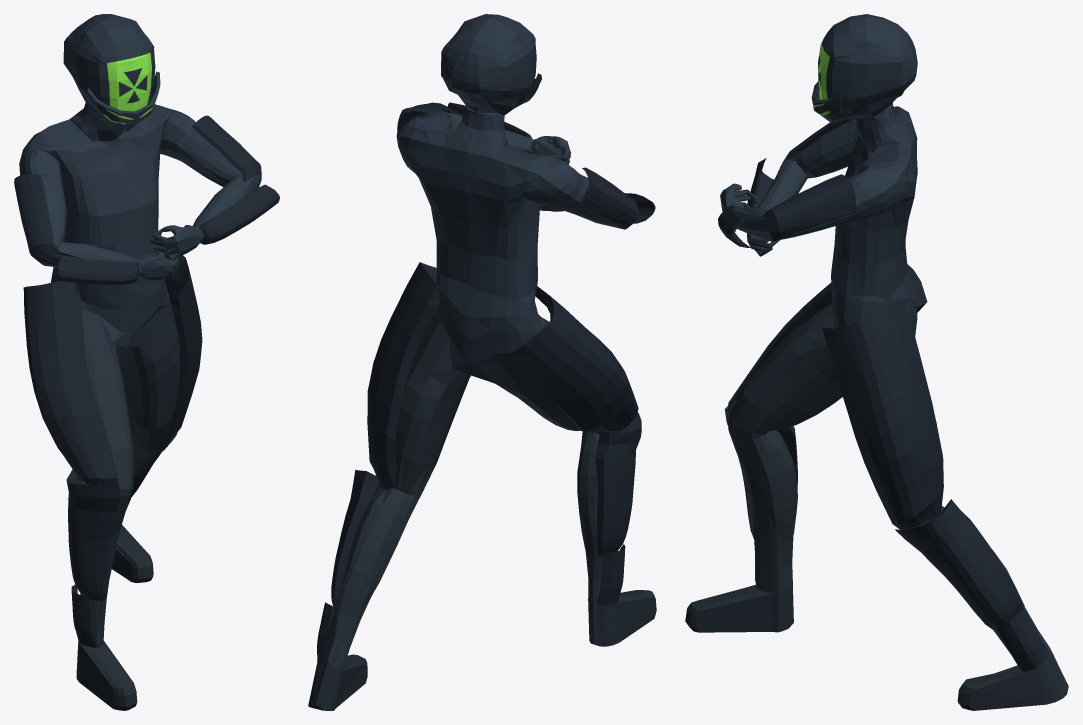
Rendered from Bastion_Stun_Recover_000023.obj.
The picture shows the model from 3 angles, left to right: view 1: azimuth 30°, elevation 25°; view 2: azimuth 150°, elevation 25°; view 3: azimuth 270°, elevation 25°; orthographic projection. The views are drawn at different scales.
Parts seen in each view (by area): view 1: Cube.002; view 2: Cube.002; view 3: Cube.002.
Boxes of the visible parts, x1,y1,x2,y2 form: Cube.002: (14, 14, 279, 710); Cube.002: (308, 14, 656, 710); Cube.002: (685, 14, 1068, 710).
Bounding box in the file's own units: 1.35 × 3.64 × 1.95.
